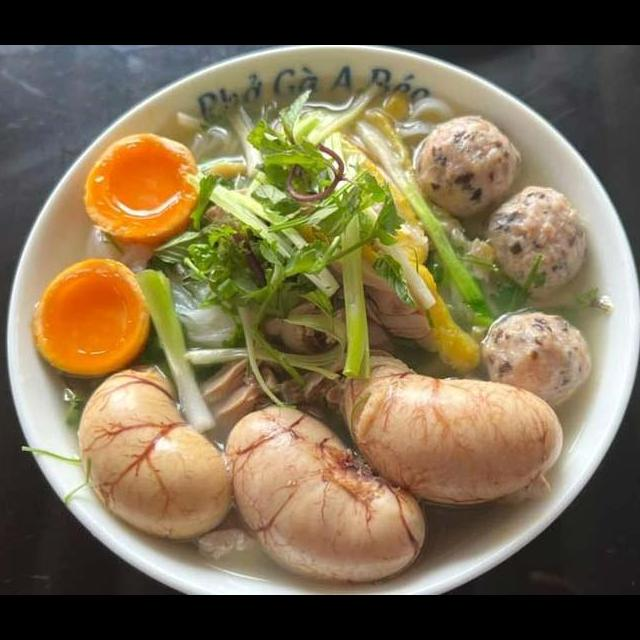banh pho: (182, 80, 454, 172), (154, 267, 262, 352)
pho ga: (15, 91, 640, 594)
thit ga: (198, 157, 486, 380), (266, 109, 427, 241)
trung: (29, 253, 154, 382), (78, 127, 205, 253)
vien moc: (474, 304, 596, 419), (484, 182, 594, 303), (410, 111, 524, 224)
